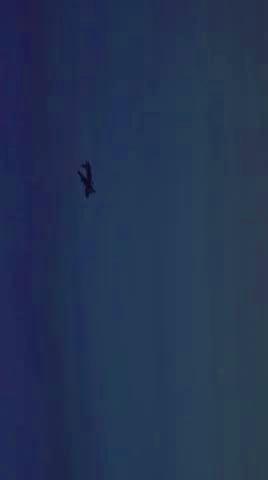Plane: (67, 141, 104, 217)
